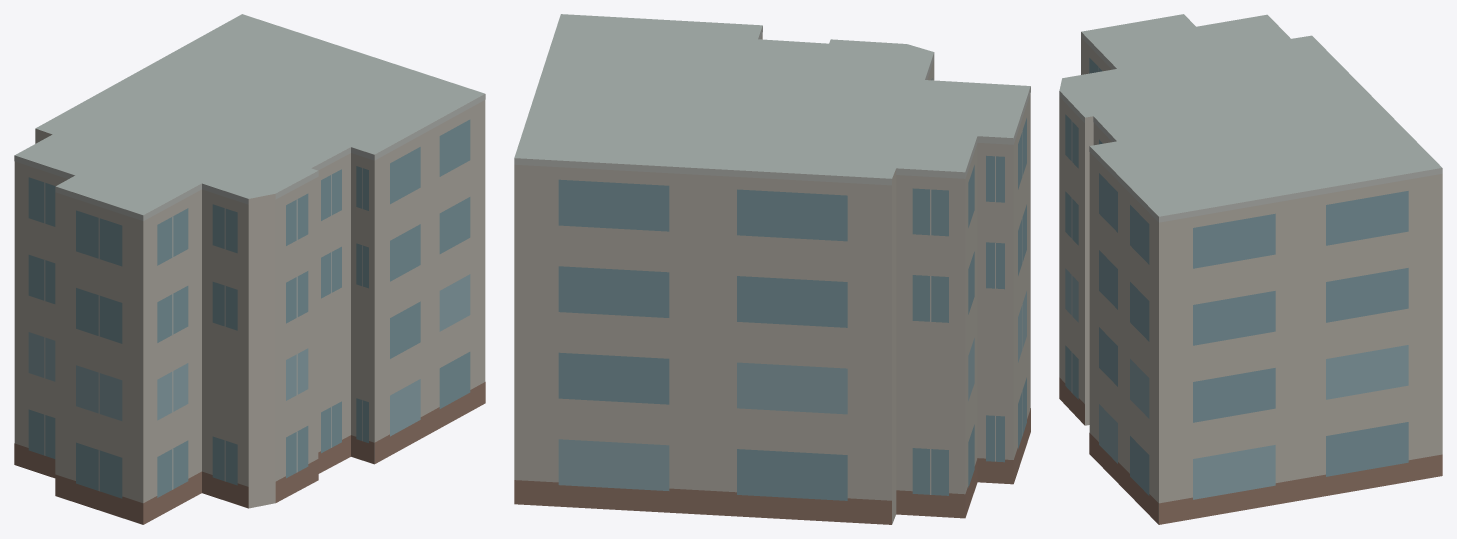
The model's file is survey-upis-32917785.glb.
The picture shows the model from 3 angles, left to right: view 1: azimuth 30°, elevation 25°; view 2: azimuth 150°, elevation 25°; view 3: azimuth 270°, elevation 25°; orthographic projection. The views are drawn at different scales.
Parts seen in each view (by area): view 1: survey-upis-32917785.tmp; view 2: survey-upis-32917785.tmp; view 3: survey-upis-32917785.tmp.
Part boxes in pixels (x1,y1,x2,y2): survey-upis-32917785.tmp: (14,14,485,524); survey-upis-32917785.tmp: (514,14,1030,524); survey-upis-32917785.tmp: (1059,14,1442,524).
Bounding box in the file's own units: 18.01 × 12.75 × 14.38.
